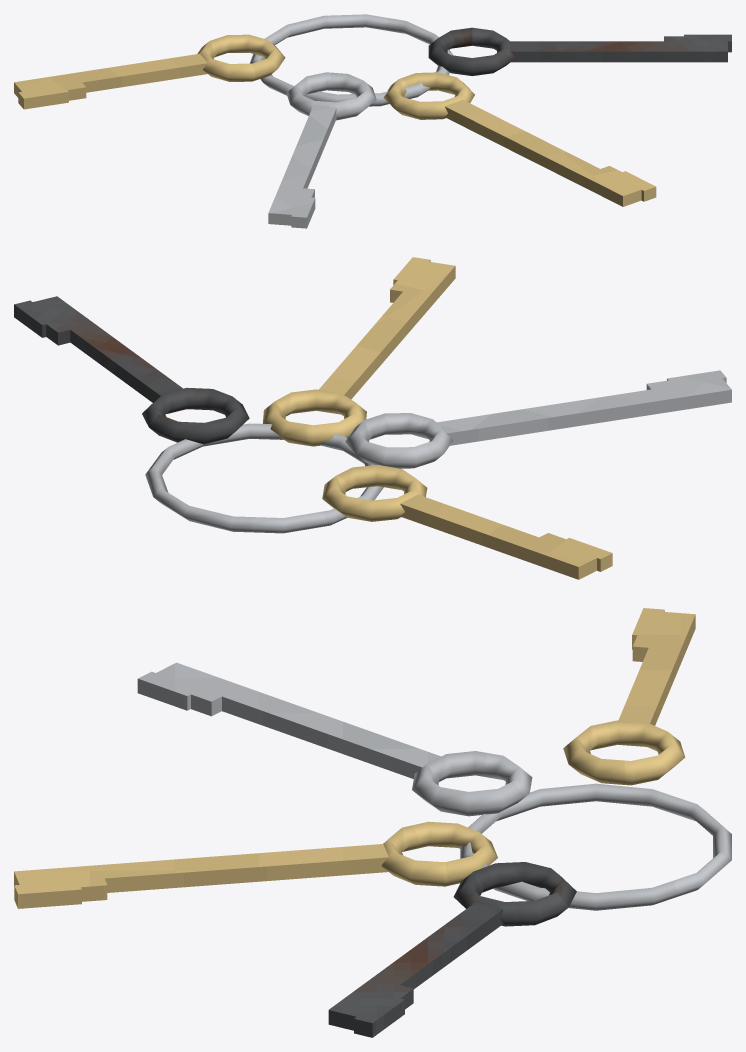
File: item_keyring.glb
3 views of the same model, one above another, from view 1: azimuth 30°, elevation 25°; view 2: azimuth 150°, elevation 25°; view 3: azimuth 270°, elevation 25° (orthographic). The views are drawn at different scales.
Visible parts, largest first — view 1: keys; view 2: keys; view 3: keys.
Part boxes in pixels (x1=…): keys: x1=14, y1=14, x2=731, y2=228; keys: x1=14, y1=257, x2=731, y2=579; keys: x1=14, y1=608, x2=731, y2=1037.
Bounding box in the file's own units: 0.1756 × 0.0098 × 0.133.
Materials: 3 (3 with a texture image).
